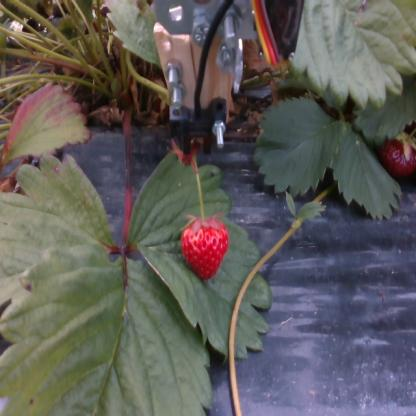ripe: (180, 218, 228, 282), (383, 132, 416, 176)
